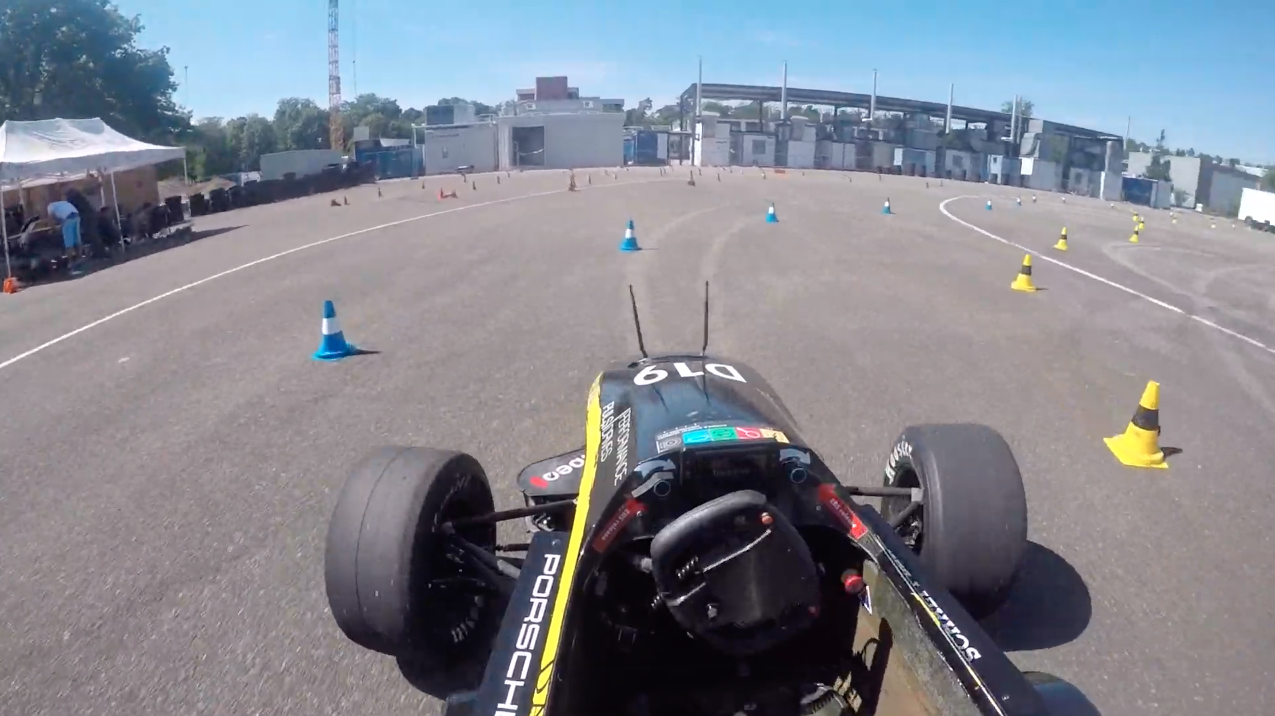lcone: (308, 299, 360, 367), (616, 217, 643, 255), (762, 198, 784, 225)
rcone: (1096, 374, 1182, 474), (1008, 251, 1043, 295), (1051, 224, 1074, 251)
